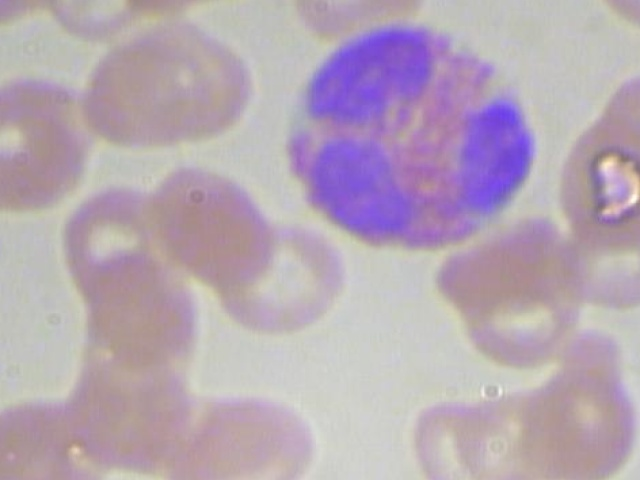Platelets: (0, 220, 13, 279)
RBC: (70, 16, 259, 164), (138, 158, 280, 288), (203, 220, 350, 337), (516, 355, 640, 480), (546, 105, 640, 255), (0, 75, 89, 221), (393, 393, 536, 480), (549, 203, 640, 320)
WBC: (268, 6, 548, 260)
